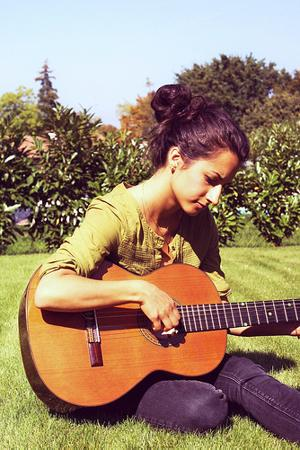person: (35, 83, 300, 444)
